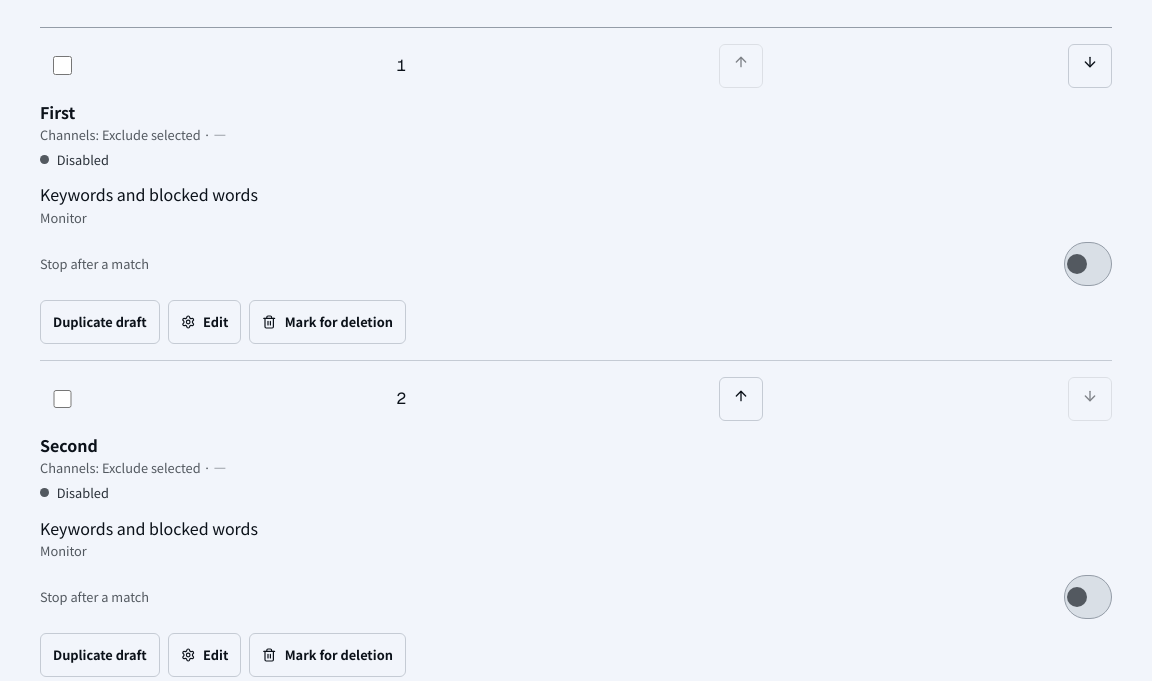
Test: reports partial deletion and retries only the remaining rule with its original revision
(page scrolled)
Click the button "Mark for deletion" below "First" at (328, 322), box [249, 300, 406, 344]
(page scrolled)
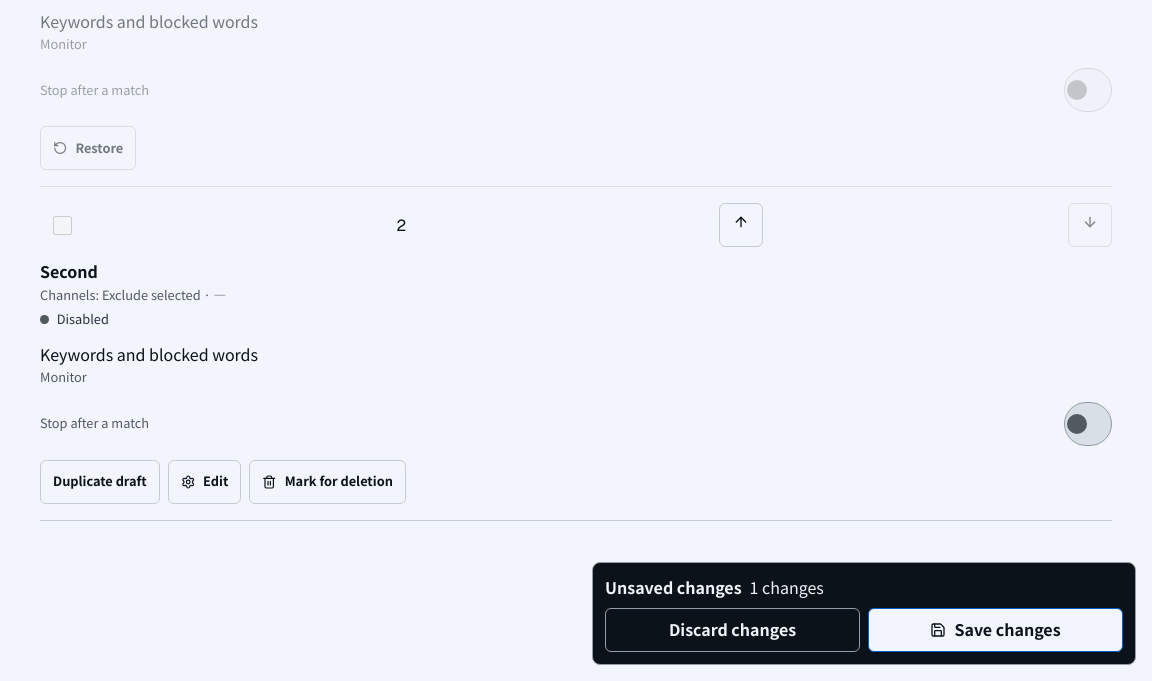
Click the button "Mark for deletion" at (328, 482), box [249, 460, 406, 504]
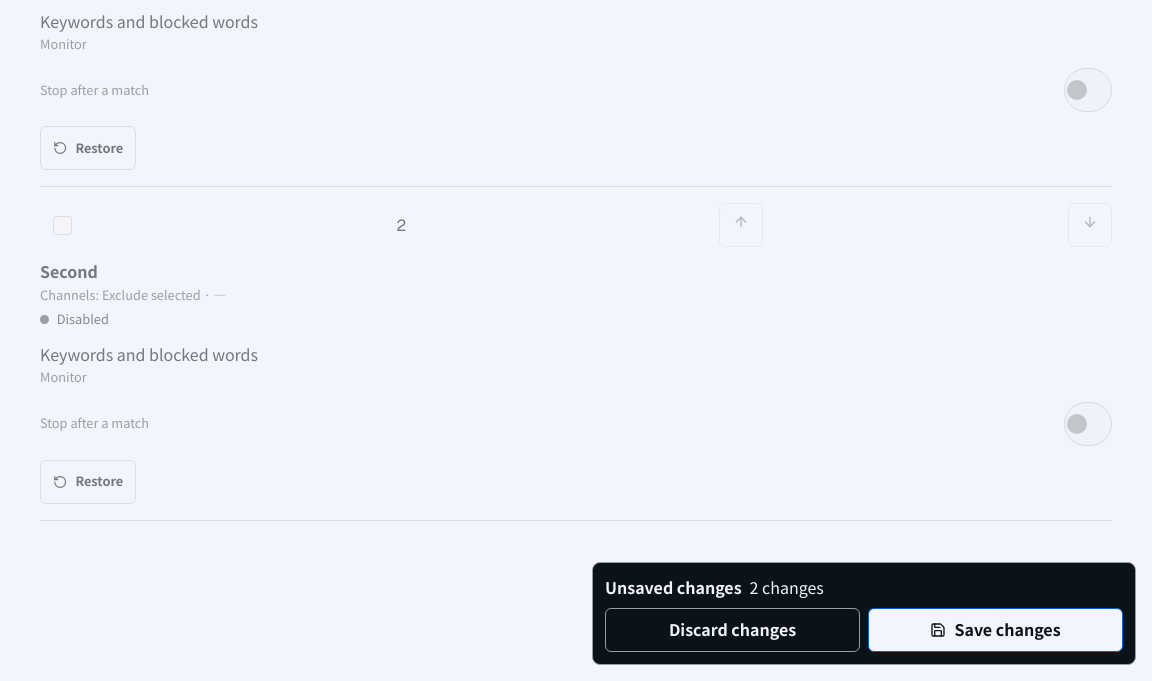
Click the button "Save changes" at (996, 630), box [868, 608, 1123, 652]
(page scrolled)
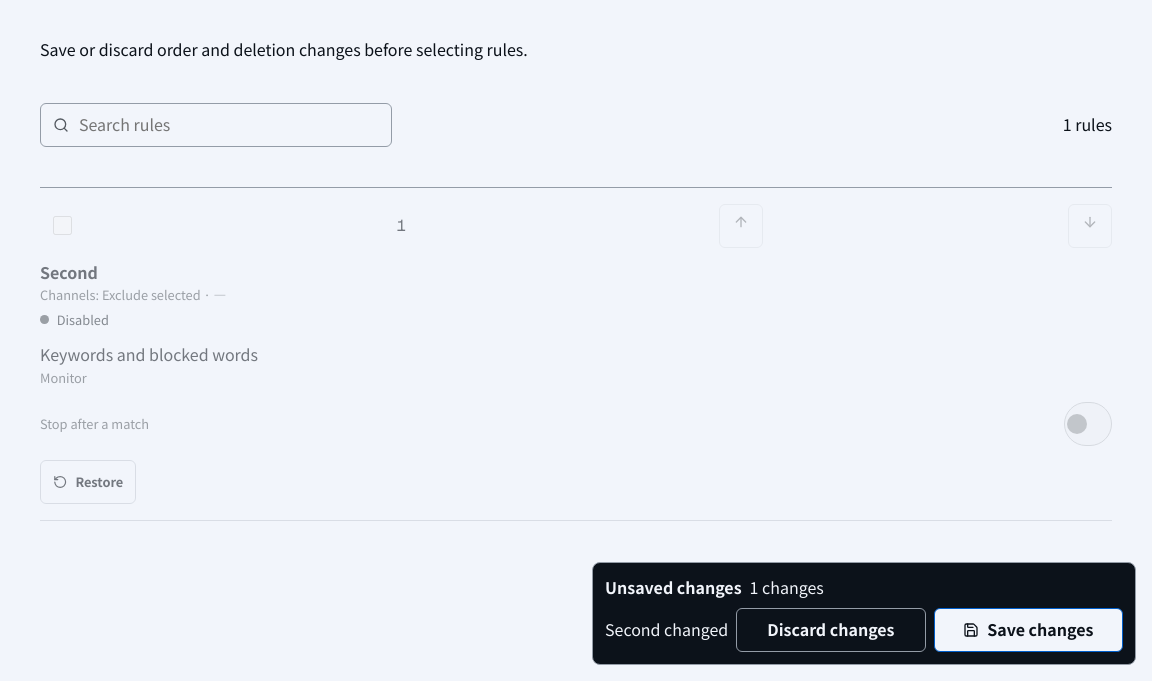
Expected: the text "Second" is shown, [40, 260, 98, 284]
Now the message reads "Second changed", box [605, 617, 728, 641]
Click the button "Save changes" at (1028, 630), box [934, 608, 1123, 652]
(page scrolled)
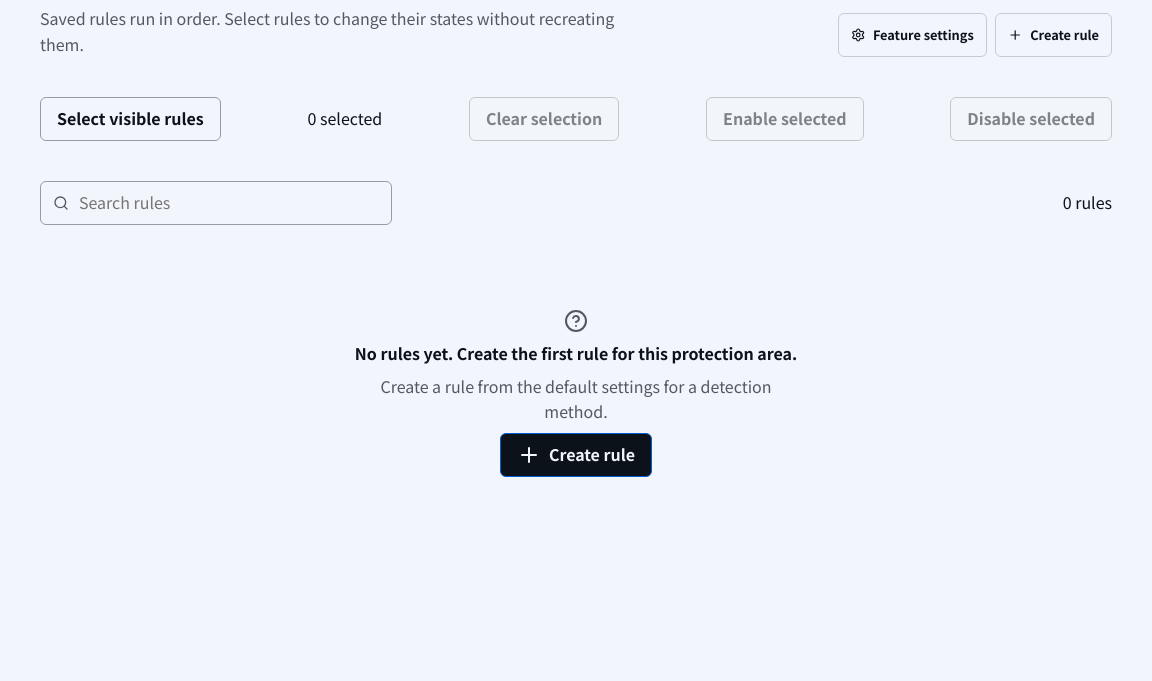
Now the text "Second" is gone
